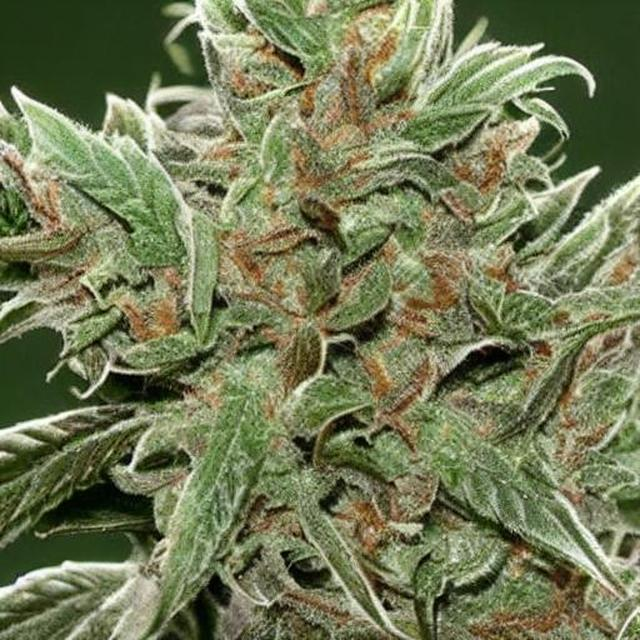Marijuana Joint: (1, 1, 640, 640)
